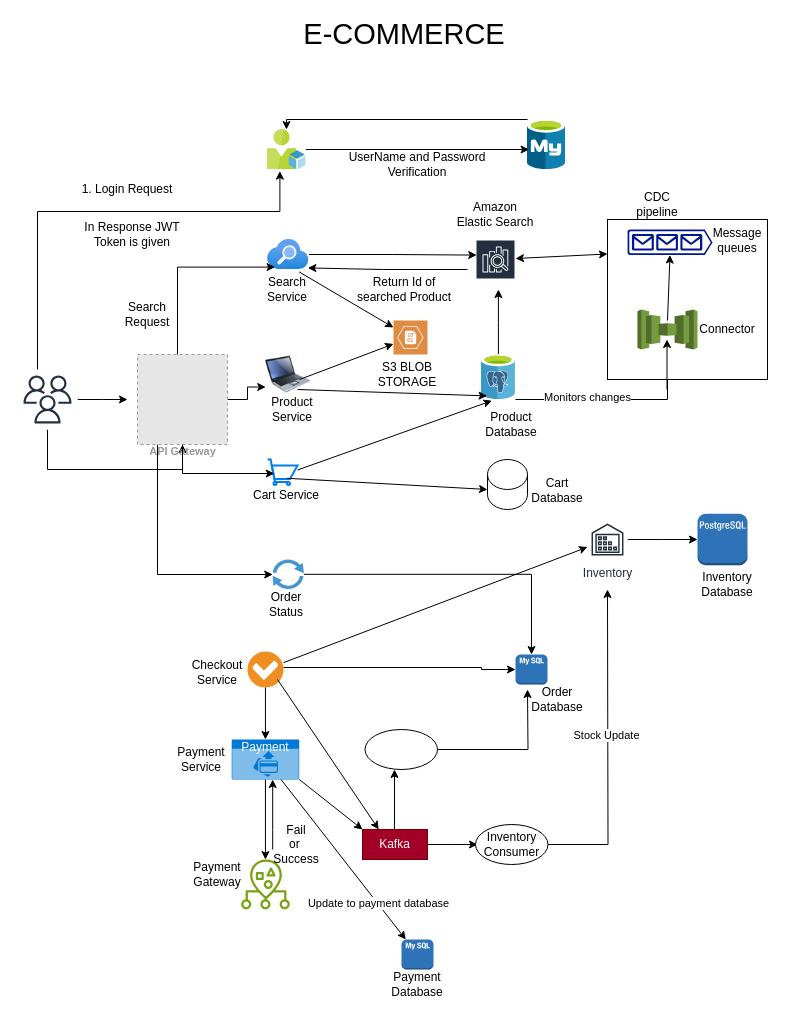
This 785x1017 diagram has some shape labels left out. Grey dashed boxes stand in for pictures. The shapes that lost their labels are listed below. From the top down, each one's centre as x and y in pixels, then its label:
At point (47, 399): "Users".
At point (401, 749): "Order Consumer".
